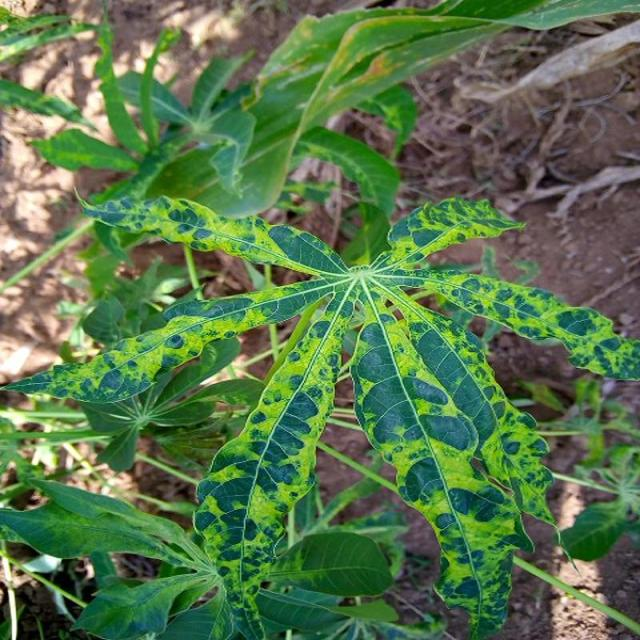cassava leaf: (1, 185, 638, 638)
